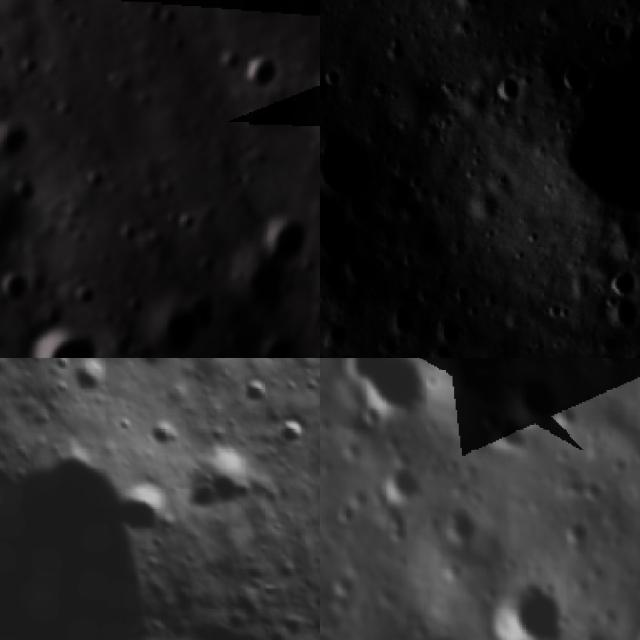crater: (0, 407, 258, 640), (168, 441, 280, 550), (478, 571, 571, 640), (338, 358, 433, 424), (320, 184, 377, 292), (320, 114, 380, 200), (144, 297, 213, 358), (227, 260, 293, 318), (25, 314, 102, 358), (504, 370, 566, 420), (264, 405, 320, 459), (233, 46, 288, 97), (268, 210, 316, 267), (552, 54, 598, 100), (486, 69, 532, 111), (384, 294, 422, 341), (435, 315, 476, 354), (601, 261, 640, 301), (0, 117, 31, 163), (1, 267, 25, 313), (383, 511, 410, 546), (478, 402, 507, 432), (579, 477, 603, 508), (451, 0, 488, 20), (308, 69, 320, 130), (598, 358, 629, 371)
